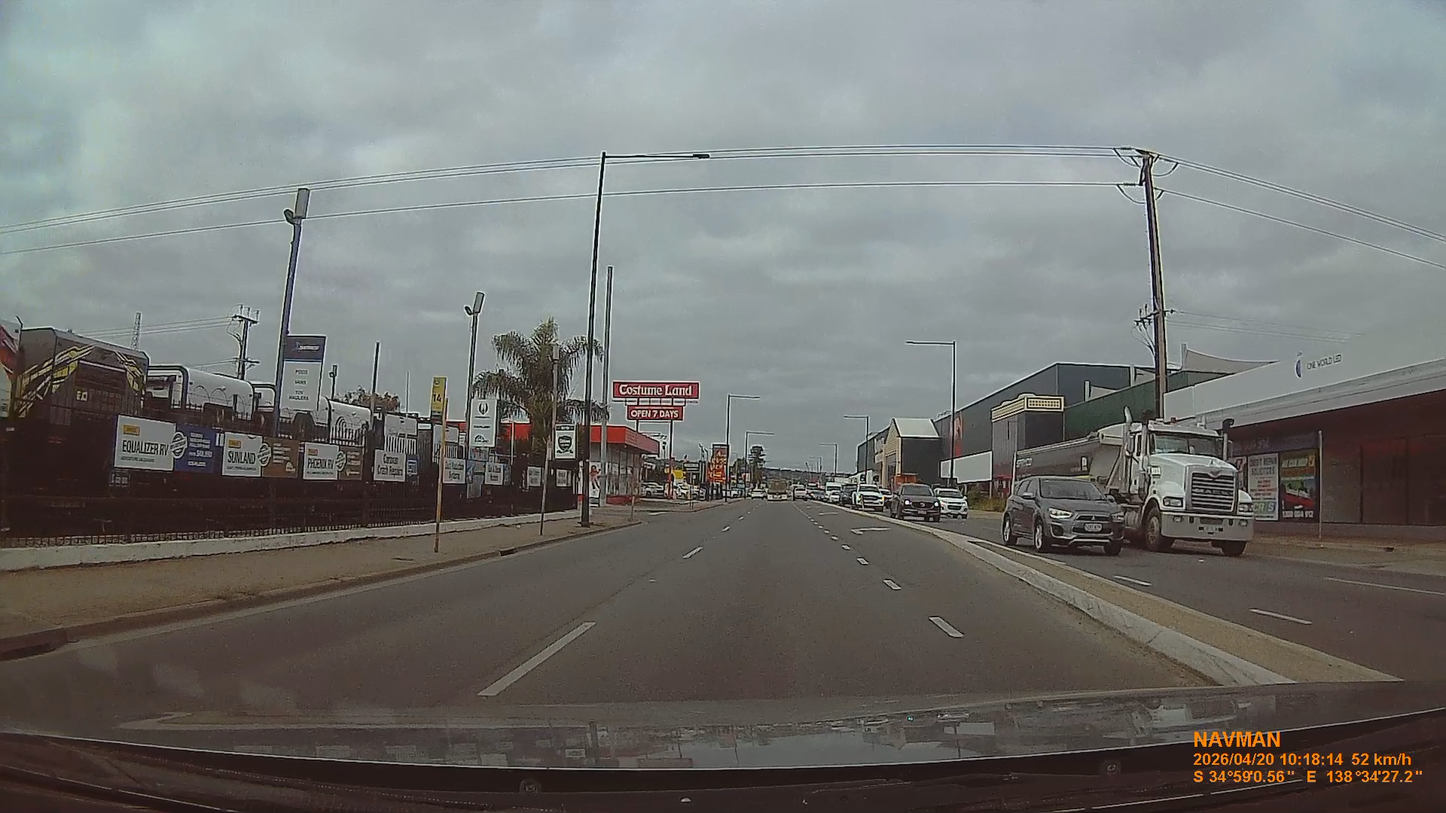fences: (0, 346, 429, 544)
